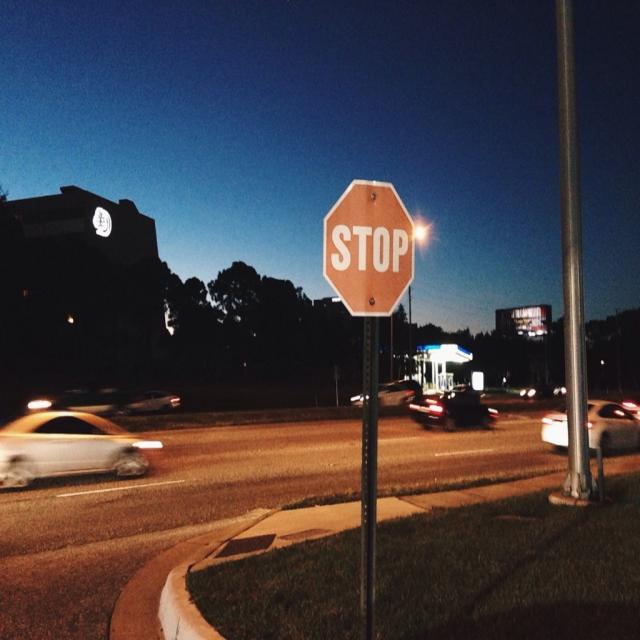Stop-sign: (323, 179, 414, 313)
